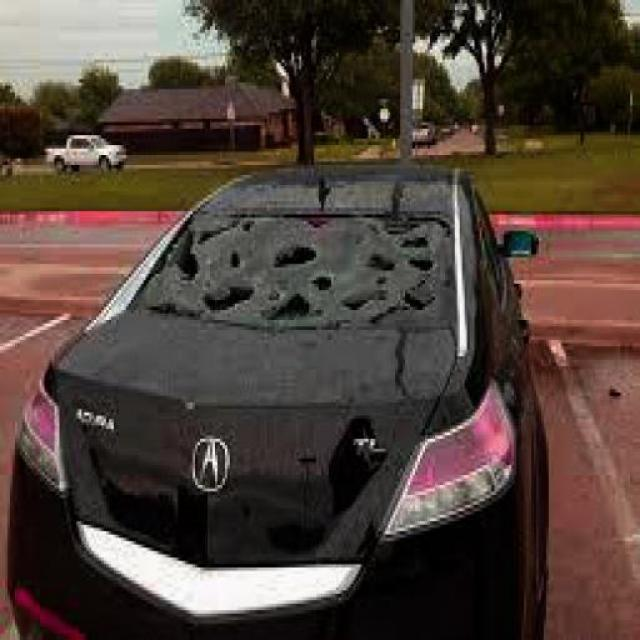car damage: (134, 204, 461, 335)
